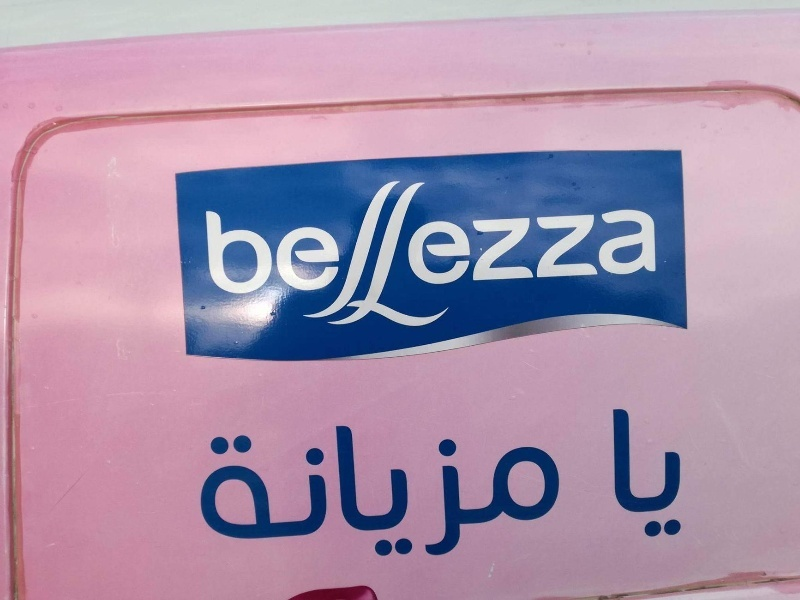text: (209, 174, 224, 333), (225, 174, 240, 333), (241, 174, 256, 333), (257, 174, 272, 333), (273, 174, 288, 333), (289, 174, 304, 333), (305, 174, 320, 333), (321, 174, 336, 333), (337, 174, 352, 333), (353, 174, 368, 333), (369, 174, 384, 333), (385, 174, 400, 333), (401, 174, 416, 333), (417, 174, 432, 333), (433, 174, 448, 333), (449, 174, 464, 333), (465, 174, 480, 333), (481, 174, 496, 333), (497, 174, 512, 333), (513, 174, 528, 333), (529, 174, 544, 333), (545, 174, 560, 333), (561, 174, 576, 333), (577, 174, 592, 333), (593, 174, 608, 333), (609, 174, 624, 333), (625, 174, 640, 333), (641, 174, 656, 333), (209, 419, 224, 570), (225, 419, 240, 570), (241, 419, 256, 570), (257, 419, 272, 570), (273, 419, 288, 570), (289, 419, 304, 570), (305, 419, 320, 570), (321, 419, 336, 570), (337, 419, 352, 570), (353, 419, 368, 570), (369, 419, 384, 570), (385, 419, 400, 570), (401, 419, 416, 570), (417, 419, 432, 570), (433, 419, 448, 570), (449, 419, 464, 570), (465, 419, 480, 570), (481, 419, 496, 570), (497, 419, 512, 570), (513, 419, 528, 570), (529, 419, 544, 570), (545, 419, 560, 570), (194, 419, 208, 570), (625, 408, 640, 541), (641, 408, 656, 541), (657, 408, 672, 541), (610, 408, 624, 541), (673, 408, 685, 541), (657, 174, 667, 333), (200, 174, 208, 333), (561, 419, 563, 570)
